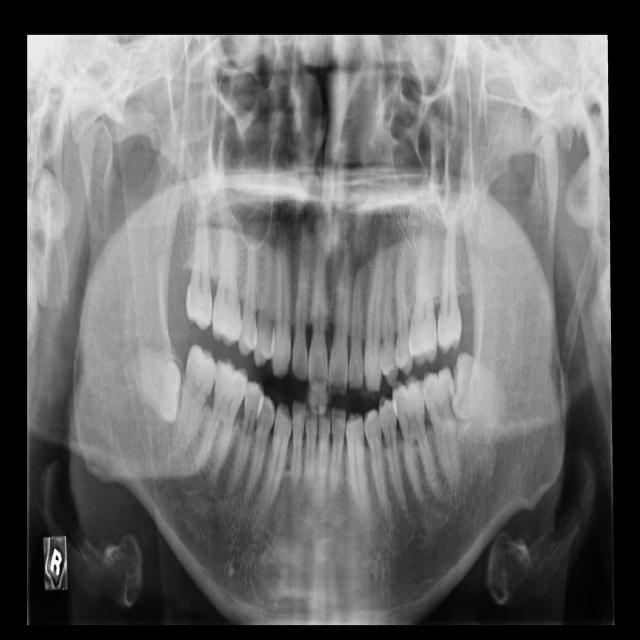52: (439, 396, 455, 421)
73: (590, 578, 598, 592)
BioHorizons Implant: (436, 214, 467, 356)
Biomet 3i Implant: (443, 350, 510, 428)
Blue Sky Bio Implant: (421, 365, 460, 481)
Caries: (180, 189, 214, 331)
Implant: (172, 343, 221, 451)
Keystone Dental Implant: (140, 352, 182, 423)
